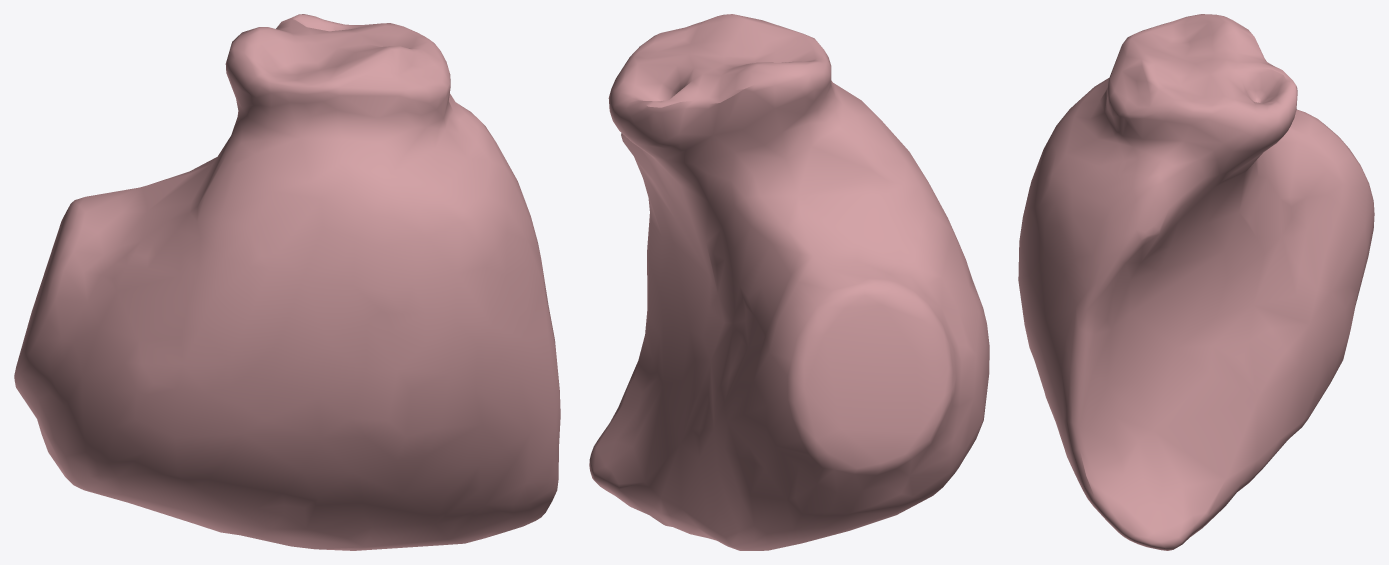
Rendered from fma9291_fj2423.glb.
3 renders of one model, left to right at view 1: azimuth 30°, elevation 25°; view 2: azimuth 150°, elevation 25°; view 3: azimuth 270°, elevation 25°, orthographic. The views are drawn at different scales.
Visible parts, largest first — view 1: FMA9291_FJ2423; view 2: FMA9291_FJ2423; view 3: FMA9291_FJ2423.
Part boxes in pixels (<box>): FMA9291_FJ2423: <box>14,14,560,550</box>; FMA9291_FJ2423: <box>589,14,989,550</box>; FMA9291_FJ2423: <box>1018,14,1374,550</box>.
Size of the model in its own units: 0.0715 by 0.0805 by 0.0582.
